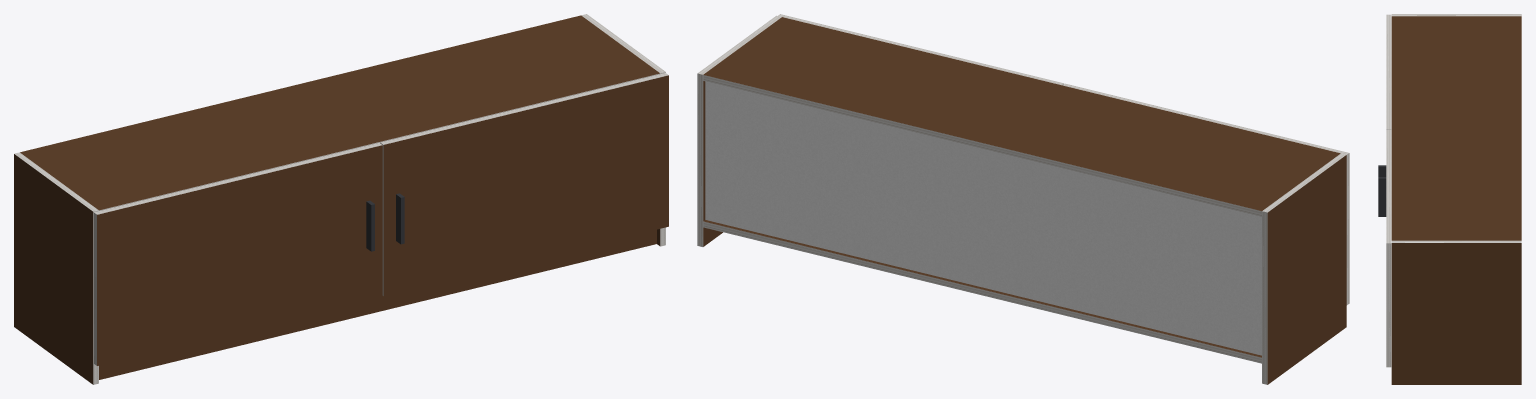
Rendered from ATL-MED-std.glb.
The picture shows the model from 3 angles, left to right: view 1: azimuth 30°, elevation 25°; view 2: azimuth 150°, elevation 25°; view 3: azimuth 270°, elevation 25°; orthographic projection. The views are drawn at different scales.
Parts seen in each view (by area): view 1: top:pbr, door-l:pbr, door-r:pbr, side-l:pbr, plinth:pbr, door-l:sheet:eyJtIjoicGx5Iiwic2lkZSI6ImVkZ2UtbG9uZyIsInNlZWQ, door-r:sheet:eyJtIjoicGx5Iiwic2lkZSI6ImVkZ2UtbG9uZyIsInNlZWQ, pull, top:sheet:eyJtIjoicGx5Iiwic2lkZSI6ImVkZ2UtbG9uZyIsInNlZWQiOj; view 2: back:sheet:eyJtIjoibWRmIiwic2lkZSI6ImZhY2UiLCJzZWVkIjoxLCJ0a, top:pbr, side-l:pbr, bottom:sheet:eyJtIjoicGx5Iiwic2lkZSI6ImVkZ2UtbG9uZyIsInNlZWQ, top:sheet:eyJtIjoicGx5Iiwic2lkZSI6ImVkZ2UtbG9uZyIsInNlZWQiOj, bottom:pbr, side-r:sheet:eyJtIjoicGx5Iiwic2lkZSI6ImVkZ2UtbG9uZyIsInNlZWQ, side-l:sheet:eyJtIjoicGx5Iiwic2lkZSI6ImVkZ2UtbG9uZyIsInNlZWQ, door-l:sheet:eyJtIjoicGx5Iiwic2lkZSI6ImVkZ2UtbG9uZyIsInNlZWQ, door-r:sheet:eyJtIjoicGx5Iiwic2lkZSI6ImVkZ2UtbG9uZyIsInNlZWQ, side-r:pbr, door-l:sheet:eyJtIjoicGx5Iiwic2lkZSI6ImVkZ2UtZW5kIiwic2VlZCI; view 3: top:pbr, side-r:pbr, door-r:sheet:eyJtIjoicGx5Iiwic2lkZSI6ImVkZ2UtZW5kIiwic2VlZCI, door-l:sheet:eyJtIjoicGx5Iiwic2lkZSI6ImVkZ2UtbG9uZyIsInNlZWQ, door-r:sheet:eyJtIjoicGx5Iiwic2lkZSI6ImVkZ2UtbG9uZyIsInNlZWQ, pull, side-l:sheet:eyJtIjoicGx5Iiwic2lkZSI6ImVkZ2UtZW5kIiwic2VlZCI, side-r:sheet:eyJtIjoicGx5Iiwic2lkZSI6ImVkZ2UtZW5kIiwic2VlZCI.
Part boxes in pixels (x1=…): top:pbr: x1=20, y1=15, x2=659, y2=210; door-l:pbr: x1=97, y1=145, x2=382, y2=365; door-r:pbr: x1=383, y1=75, x2=668, y2=295; side-l:pbr: x1=14, y1=154, x2=93, y2=384; plinth:pbr: x1=99, y1=229, x2=656, y2=379; door-l:sheet:eyJtIjoicGx5Iiwic2lkZSI6ImVkZ2UtbG9uZyIsInNlZWQ: x1=94, y1=143, x2=382, y2=214; door-r:sheet:eyJtIjoicGx5Iiwic2lkZSI6ImVkZ2UtbG9uZyIsInNlZWQ: x1=381, y1=73, x2=668, y2=144; pull: x1=366, y1=193, x2=404, y2=251; top:sheet:eyJtIjoicGx5Iiwic2lkZSI6ImVkZ2UtbG9uZyIsInNlZWQiOj: x1=99, y1=73, x2=659, y2=210; back:sheet:eyJtIjoibWRmIiwic2lkZSI6ImZhY2UiLCJzZWVkIjoxLCJ0a: x1=705, y1=81, x2=1261, y2=355; top:pbr: x1=703, y1=17, x2=1340, y2=210; side-l:pbr: x1=1267, y1=155, x2=1346, y2=384; bottom:sheet:eyJtIjoicGx5Iiwic2lkZSI6ImVkZ2UtbG9uZyIsInNlZWQ: x1=703, y1=221, x2=1261, y2=363; top:sheet:eyJtIjoicGx5Iiwic2lkZSI6ImVkZ2UtbG9uZyIsInNlZWQiOj: x1=703, y1=75, x2=1261, y2=216; bottom:pbr: x1=703, y1=220, x2=1261, y2=357; side-r:sheet:eyJtIjoicGx5Iiwic2lkZSI6ImVkZ2UtbG9uZyIsInNlZWQ: x1=697, y1=73, x2=703, y2=246; side-l:sheet:eyJtIjoicGx5Iiwic2lkZSI6ImVkZ2UtbG9uZyIsInNlZWQ: x1=1262, y1=211, x2=1267, y2=384; door-l:sheet:eyJtIjoicGx5Iiwic2lkZSI6ImVkZ2UtbG9uZyIsInNlZWQ: x1=1063, y1=83, x2=1348, y2=154; door-r:sheet:eyJtIjoicGx5Iiwic2lkZSI6ImVkZ2UtbG9uZyIsInNlZWQ: x1=778, y1=14, x2=1063, y2=85; side-r:pbr: x1=703, y1=81, x2=722, y2=246; door-l:sheet:eyJtIjoicGx5Iiwic2lkZSI6ImVkZ2UtZW5kIiwic2VlZCI: x1=1346, y1=153, x2=1349, y2=305; top:pbr: x1=1391, y1=16, x2=1521, y2=240; side-r:pbr: x1=1391, y1=243, x2=1521, y2=384; door-r:sheet:eyJtIjoicGx5Iiwic2lkZSI6ImVkZ2UtZW5kIiwic2VlZCI: x1=1386, y1=243, x2=1391, y2=367; door-l:sheet:eyJtIjoicGx5Iiwic2lkZSI6ImVkZ2UtbG9uZyIsInNlZWQ: x1=1386, y1=14, x2=1391, y2=128; door-r:sheet:eyJtIjoicGx5Iiwic2lkZSI6ImVkZ2UtbG9uZyIsInNlZWQ: x1=1386, y1=129, x2=1391, y2=243; pull: x1=1378, y1=165, x2=1386, y2=216; side-l:sheet:eyJtIjoicGx5Iiwic2lkZSI6ImVkZ2UtZW5kIiwic2VlZCI: x1=1391, y1=14, x2=1521, y2=16; side-r:sheet:eyJtIjoicGx5Iiwic2lkZSI6ImVkZ2UtZW5kIiwic2VlZCI: x1=1391, y1=240, x2=1521, y2=242.
Size of the model in its own units: 1.8 by 0.52 by 0.4769.
Materials: 34 (23 with a texture image).
